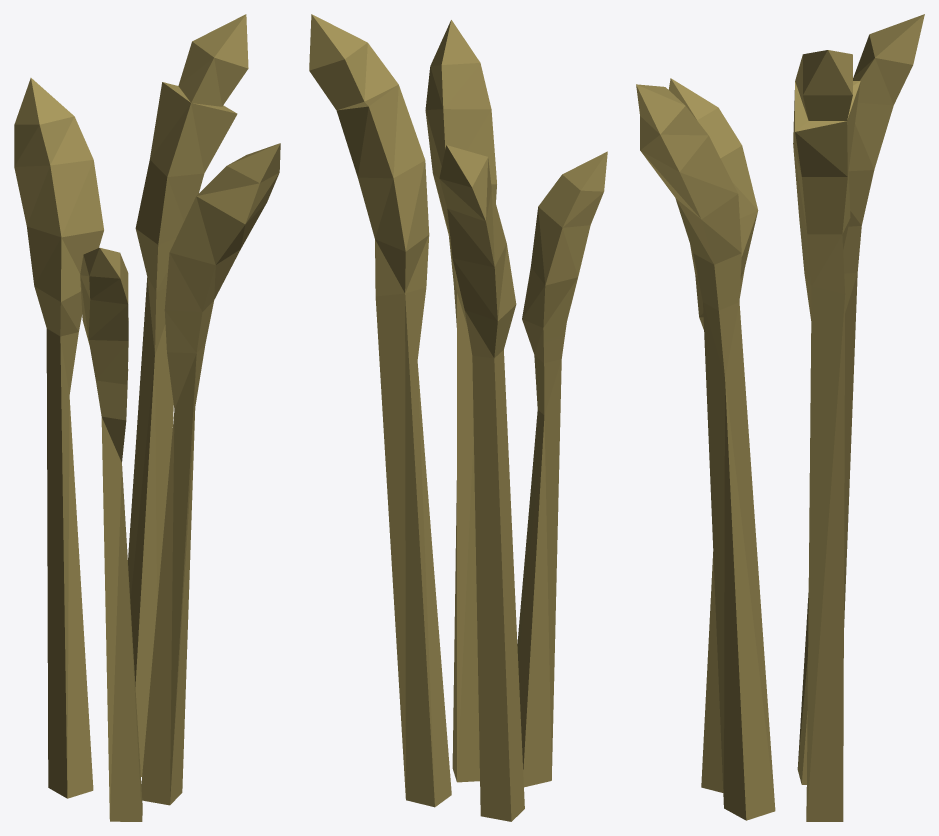
Rendered from plant_wheat_2.glb.
3 views of the same model, side by side, from view 1: azimuth 30°, elevation 25°; view 2: azimuth 150°, elevation 25°; view 3: azimuth 270°, elevation 25° (orthographic). The views are drawn at different scales.
Parts seen in each view (by area): view 1: plant_wheat_2; view 2: plant_wheat_2; view 3: plant_wheat_2.
Boxes of the visible parts, box(x1,y1,x2,y2) form: plant_wheat_2: box(14, 14, 280, 821); plant_wheat_2: box(309, 14, 607, 821); plant_wheat_2: box(636, 14, 924, 821).
Size of the model in its own units: 0.347 by 1.1 by 0.3486.
